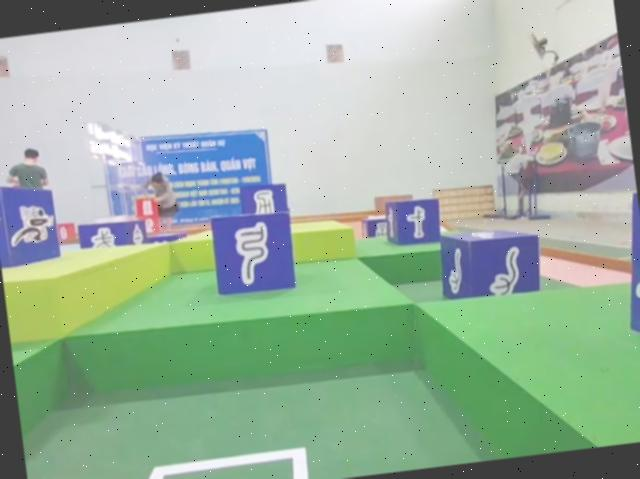R1 Blue: (0, 179, 60, 270)
R2 Fake Blue: (209, 208, 299, 300), (77, 216, 148, 252), (237, 180, 289, 219)
R2 Real Blue: (436, 222, 545, 303), (382, 195, 442, 248), (361, 213, 389, 238)
